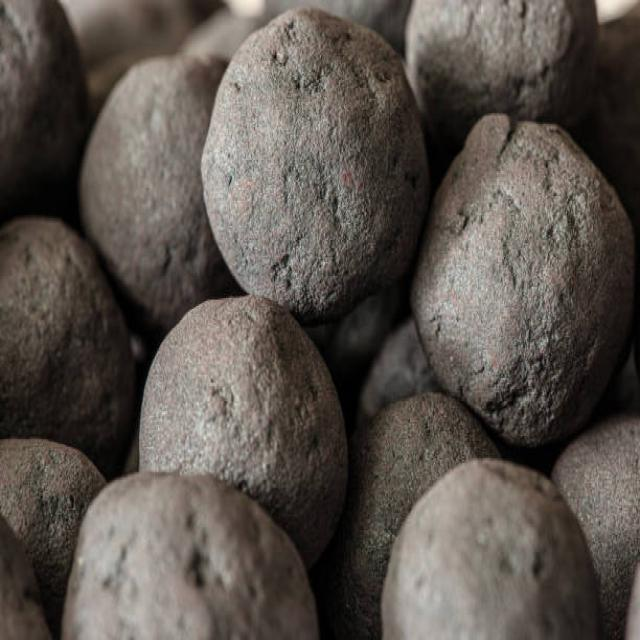Sedimentary: (194, 2, 446, 320), (416, 96, 640, 440), (134, 282, 354, 554), (58, 469, 317, 640), (380, 458, 599, 640), (74, 41, 220, 300), (1, 215, 151, 466)
